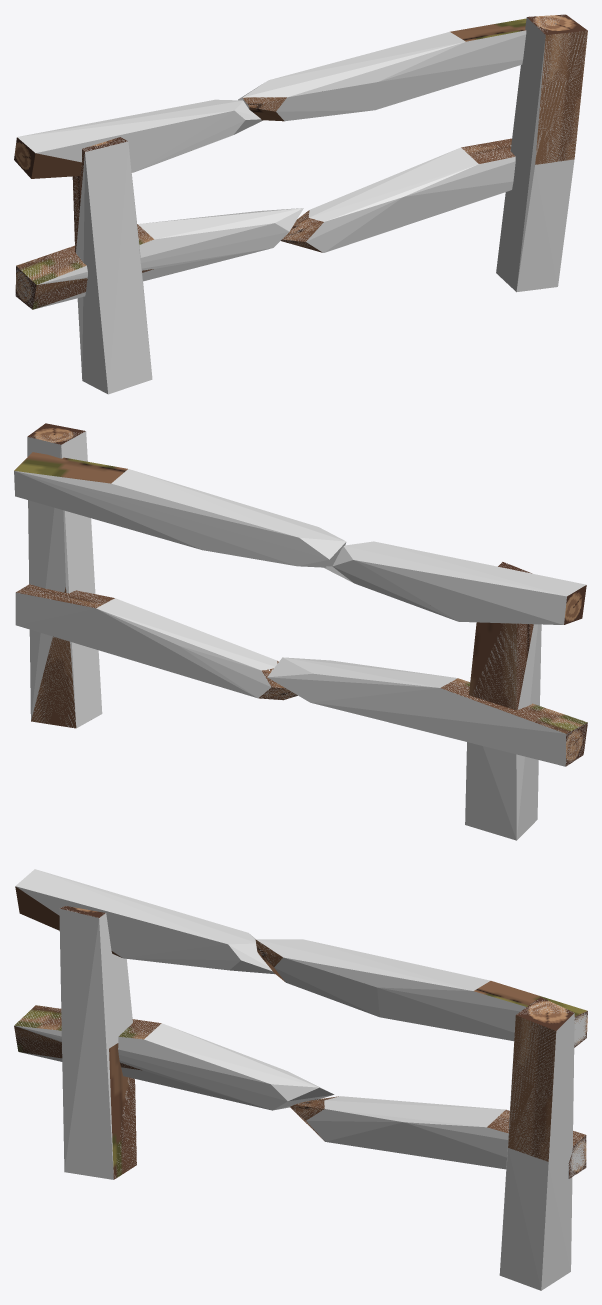
The model's file is SM_ST02_FenceBroken_Parts.fbx.
The picture shows the model from 3 angles, top to bottom: view 1: azimuth 30°, elevation 25°; view 2: azimuth 150°, elevation 25°; view 3: azimuth 330°, elevation 25°; orthographic projection. The views are drawn at different scales.
Parts seen in each view (by area): view 1: ST02_Post_1_COL, ST02_Rail_3_COL, ST02_Post_2_COL, ST02_Rail_4_COL, ST02_Rail_2_COL, ST02_Rail_1_COL, ST02_Post_2, ST02_Rail_2, ST02_Rail_4, ST02_Rail_3, ST02_Rail_1, ST02_Post_1; view 2: ST02_Rail_3_COL, ST02_Rail_2_COL, ST02_Rail_1_COL, ST02_Rail_4_COL, ST02_Post_2_COL, ST02_Post_1_COL, ST02_Post_1, ST02_Post_2, ST02_Rail_2, ST02_Rail_3, ST02_Rail_4, ST02_Rail_1; view 3: ST02_Post_1_COL, ST02_Post_2_COL, ST02_Rail_3_COL, ST02_Rail_4_COL, ST02_Rail_2_COL, ST02_Rail_1_COL, ST02_Post_2, ST02_Post_1, ST02_Rail_2, ST02_Rail_3, ST02_Rail_4, ST02_Rail_1.
Part boxes in pixels (left/top/right/bottom): ST02_Post_1_COL: left=73, top=138, right=152, bottom=394; ST02_Rail_3_COL: left=238, top=30, right=526, bottom=121; ST02_Post_2_COL: left=496, top=15, right=586, bottom=292; ST02_Rail_4_COL: left=282, top=140, right=515, bottom=252; ST02_Rail_2_COL: left=15, top=208, right=303, bottom=308; ST02_Rail_1_COL: left=17, top=99, right=262, bottom=172; ST02_Post_2: left=527, top=14, right=587, bottom=164; ST02_Rail_2: left=15, top=224, right=153, bottom=309; ST02_Rail_4: left=281, top=138, right=515, bottom=252; ST02_Rail_3: left=243, top=18, right=526, bottom=121; ST02_Rail_1: left=14, top=137, right=81, bottom=178; ST02_Post_1: left=72, top=137, right=127, bottom=252; ST02_Rail_3_COL: left=14, top=469, right=346, bottom=567; ST02_Rail_2_COL: left=267, top=657, right=587, bottom=766; ST02_Rail_1_COL: left=324, top=541, right=586, bottom=624; ST02_Rail_4_COL: left=15, top=585, right=296, bottom=699; ST02_Post_2_COL: left=27, top=431, right=102, bottom=728; ST02_Post_1_COL: left=465, top=563, right=541, bottom=840; ST02_Post_1: left=469, top=562, right=533, bottom=710; ST02_Post_2: left=27, top=423, right=85, bottom=728; ST02_Rail_2: left=441, top=678, right=587, bottom=766; ST02_Rail_3: left=14, top=452, right=127, bottom=483; ST02_Rail_4: left=16, top=584, right=297, bottom=700; ST02_Rail_1: left=564, top=585, right=586, bottom=624; ST02_Post_1_COL: left=59, top=906, right=136, bottom=1179; ST02_Post_2_COL: left=499, top=1000, right=574, bottom=1290; ST02_Rail_3_COL: left=256, top=939, right=587, bottom=1046; ST02_Rail_4_COL: left=293, top=1096, right=586, bottom=1178; ST02_Rail_2_COL: left=14, top=1005, right=334, bottom=1110; ST02_Rail_1_COL: left=15, top=869, right=275, bottom=974; ST02_Post_2: left=508, top=997, right=574, bottom=1161; ST02_Post_1: left=60, top=906, right=136, bottom=1179; ST02_Rail_2: left=14, top=1005, right=161, bottom=1070; ST02_Rail_3: left=255, top=939, right=587, bottom=1047; ST02_Rail_4: left=290, top=1096, right=586, bottom=1178; ST02_Rail_1: left=15, top=886, right=121, bottom=957.
Bounding box in the file's own units: 2.23 × 1.05 × 0.3057.
